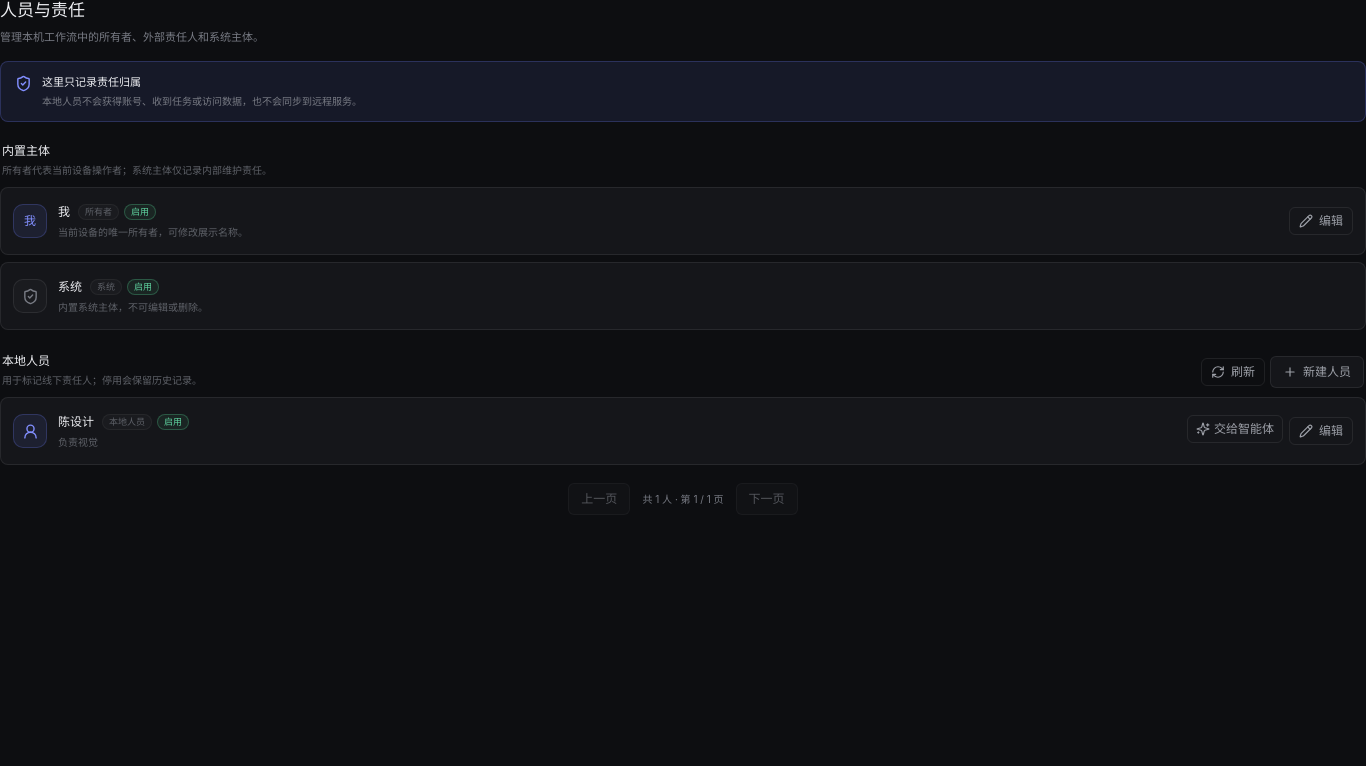
it: ActorSettings › keeps a conflicted draft blocked when detail reload fails
This screenshot has width=1366, height=766.
Expected: the text "陈设计" is shown, left=58, top=413, right=94, bottom=431
Click the button with aria-label "编辑陈设计" at (1321,431), box left=1289, top=417, right=1353, bottom=445
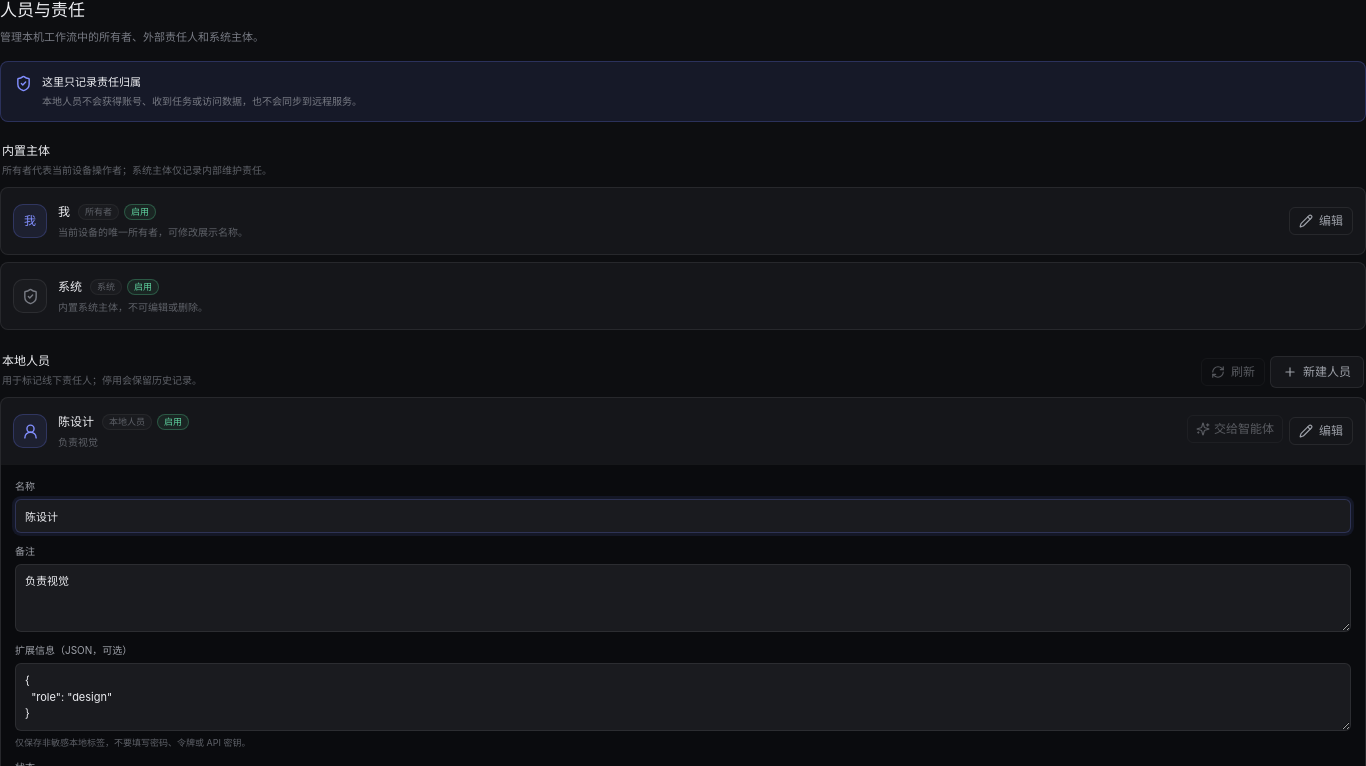
Replace the text in the field named "编辑陈设计的名称" with "保留的草稿" at (683,516), box left=15, top=499, right=1351, bottom=533
(page scrolled)
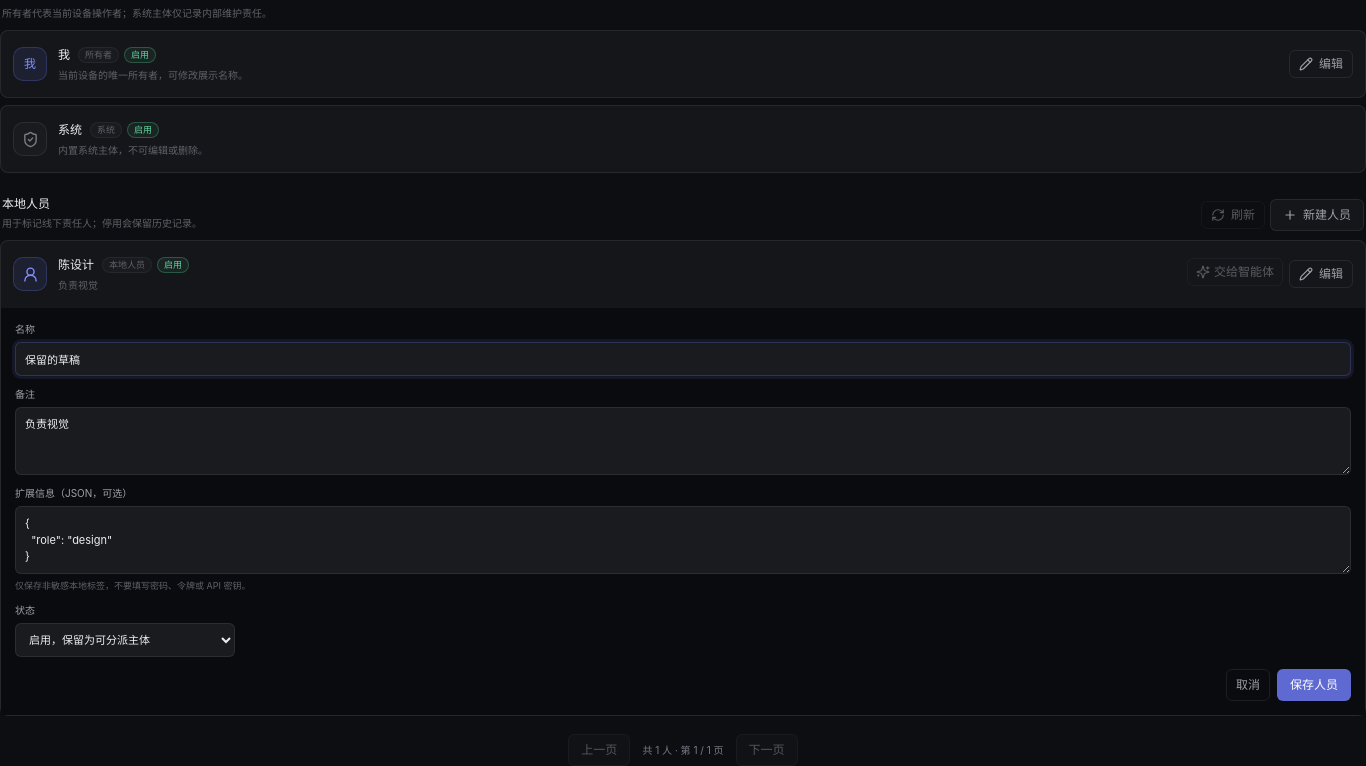
Click the button "保存人员" at (1314,685), box left=1277, top=669, right=1351, bottom=701
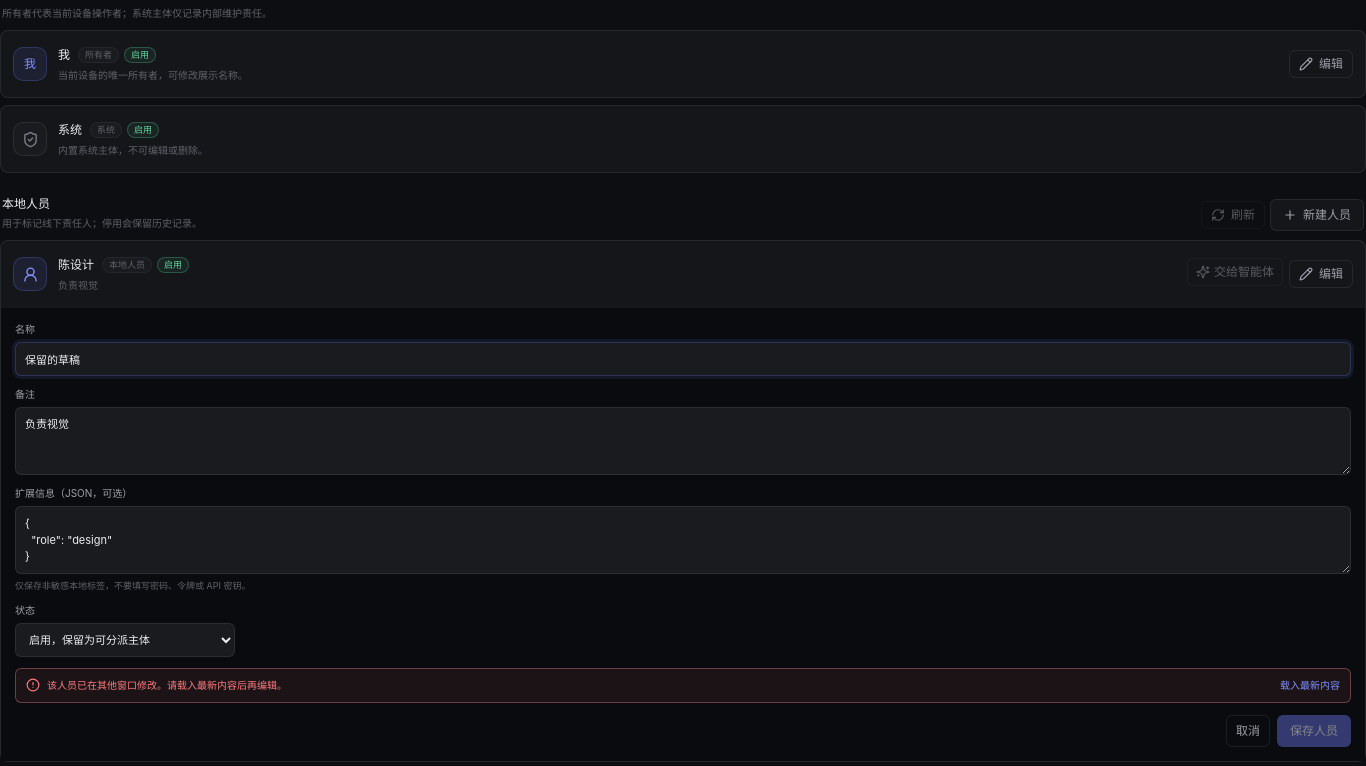
Result: the text "该人员已在其他窗口修改。请载入最新内容后再编辑。" is shown at left=47, top=679, right=287, bottom=691
Click the button "载入最新内容" at (1310,685), box left=1280, top=678, right=1340, bottom=692
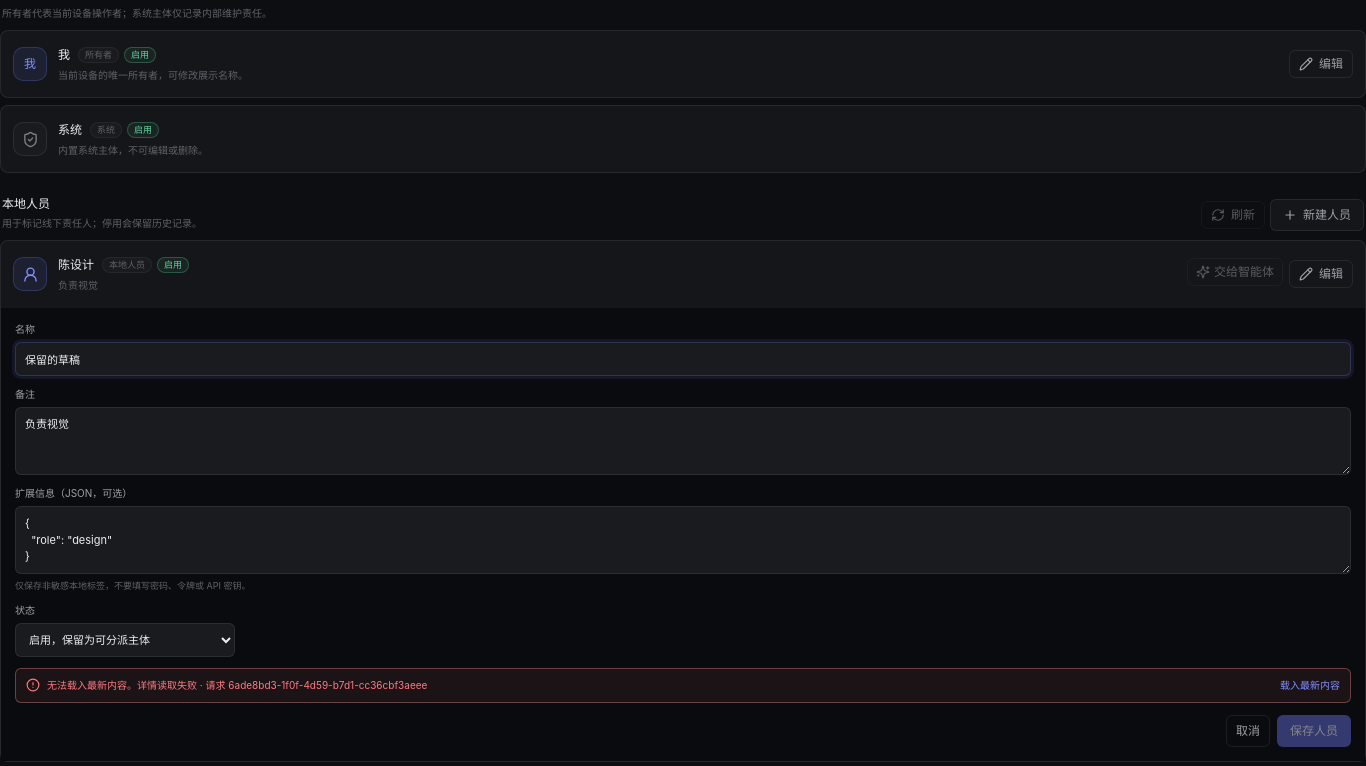
Result: the button "保存人员" is disabled at left=1277, top=714, right=1351, bottom=746
Result: the text "无法载入最新内容" is shown at left=47, top=679, right=427, bottom=691
